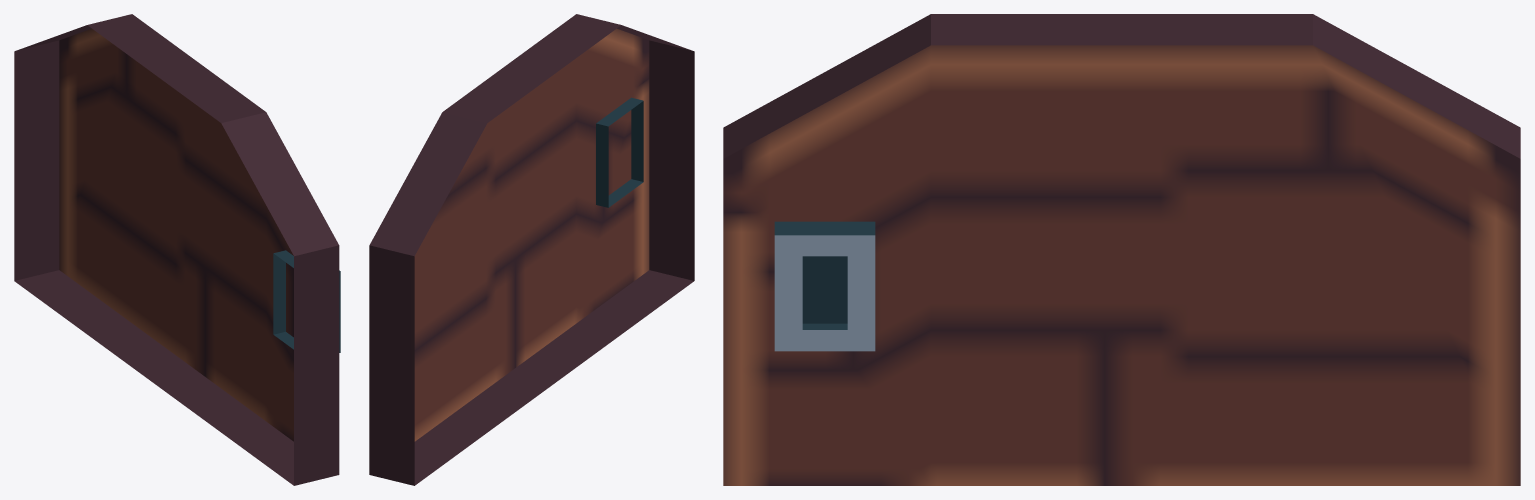
Rendered from Portao_PortaoJoint.fbx.
3 views of the same model, side by side, from view 1: azimuth 30°, elevation 25°; view 2: azimuth 150°, elevation 25°; view 3: azimuth 270°, elevation 25° (orthographic). The views are drawn at different scales.
Parts seen in each view (by area): view 1: Portao; view 2: Portao; view 3: Portao.
Boxes of the visible parts, x1,y1,x2,y2 form: Portao: (14,14,340,485); Portao: (369,14,694,485); Portao: (723,14,1520,485).
Bounding box in the file's own units: 29.64 × 135 × 222.
